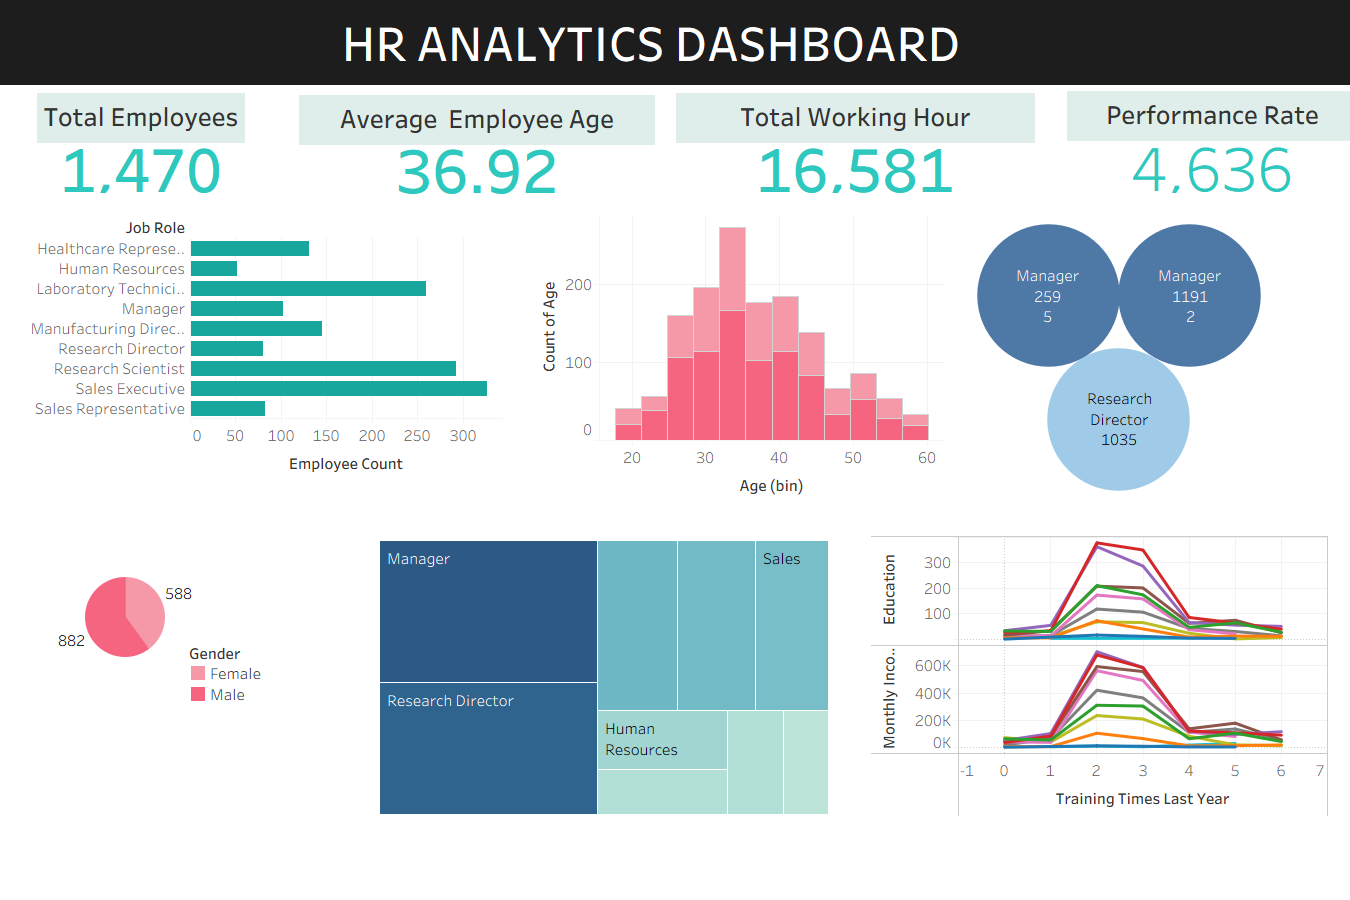

The dashboard page shown, as its layout file describes it:
{"tool":"tableau","page":{"name":"Dashboard 1","canvas":[1600,900],"ordinal":0},"visuals":[{"type":"worksheet","title":"Sheet 8","mark":"Automatic","box":[1067,91,291,102]},{"type":"worksheet","title":"Sheet 7","mark":"Automatic","box":[37,93,208,100]},{"type":"worksheet","title":"Sheet 9","mark":"Automatic","box":[676,93,359,100]},{"type":"worksheet","title":"Sheet 10","mark":"Automatic","box":[299,95,356,99]},{"type":"worksheet","title":"Sheet 5","mark":"Circle","box":[976,200,407,300]},{"type":"worksheet","title":"Sheet 3","mark":"Automatic","rows":["Age"],"cols":["Age (bin)"],"box":[531,201,413,302]},{"type":"worksheet","title":"Sheet 1","mark":"Automatic","rows":["JobRole"],"cols":["EmployeeCount"],"box":[30,203,472,300]},{"type":"worksheet","title":"Sheet 4","mark":"Automatic","box":[375,521,457,298]},{"type":"worksheet","title":"Sheet 6","mark":"Automatic","rows":["Education","MonthlyIncome"],"cols":["TrainingTimesLastYear"],"box":[871,521,457,296]},{"type":"worksheet","title":"Sheet 2","mark":"Pie","box":[45,522,305,297]},{"type":"legend","title":"Sheet 2","param":"[federated.1mvzggv0wsmp3f137y85d058aheg].[none:Gender:nk]","box":[188,641,140,80]}]}

Visuals, with their boxes on the page's 1600x900 design canvas (x1, y1, x2, y2). These are canvas units, not pixel positions in the 1350x900 screenshot, which may show the page scaled, cropped or inside an application window:
"Sheet 8" worksheet: locate(1067, 91, 1358, 193)
"Sheet 7" worksheet: locate(37, 93, 245, 193)
"Sheet 9" worksheet: locate(676, 93, 1035, 193)
"Sheet 10" worksheet: locate(299, 95, 655, 194)
"Sheet 5" worksheet (Circle marks): locate(976, 200, 1383, 500)
"Sheet 3" worksheet: locate(531, 201, 944, 503)
"Sheet 1" worksheet: locate(30, 203, 502, 503)
"Sheet 4" worksheet: locate(375, 521, 832, 819)
"Sheet 6" worksheet: locate(871, 521, 1328, 817)
"Sheet 2" worksheet (Pie marks): locate(45, 522, 350, 819)
"Sheet 2" legend: locate(188, 641, 328, 721)
